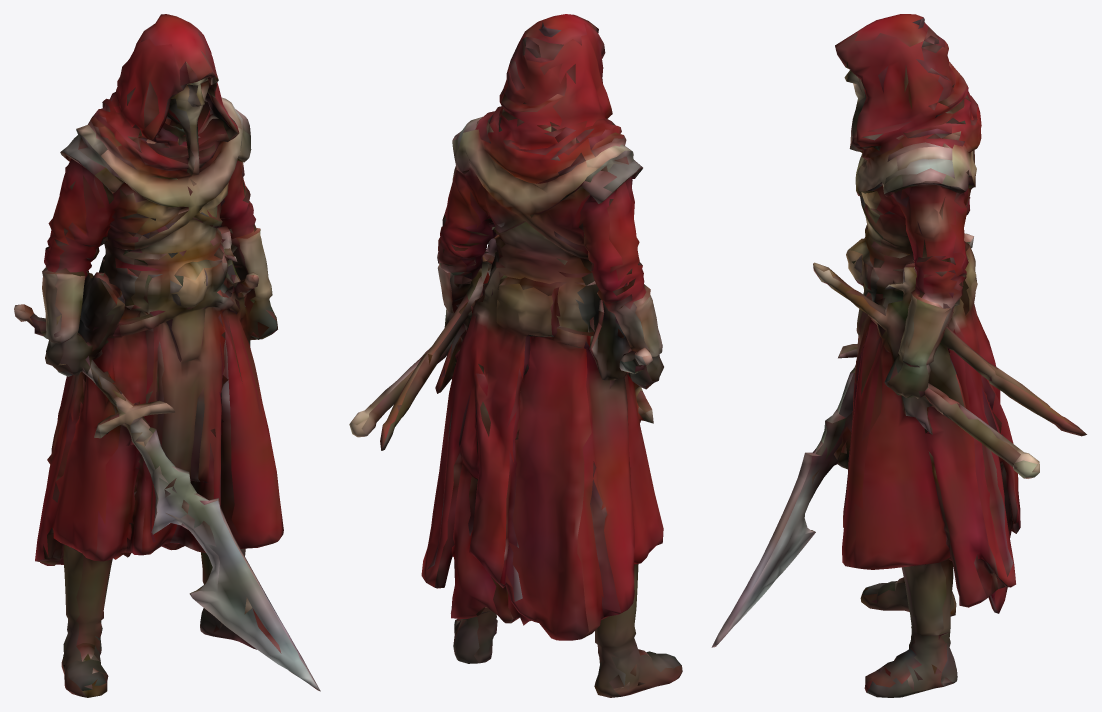
The model's file is Forgotten_Pharoah_Cultist_final.glb.
3 renders of one model, left to right at view 1: azimuth 30°, elevation 25°; view 2: azimuth 150°, elevation 25°; view 3: azimuth 270°, elevation 25°, orthographic.
Visible parts, largest first — view 1: Mesh_0; view 2: Mesh_0; view 3: Mesh_0.
Part boxes in pixels (x1,y1,x2,y2): Mesh_0: [14, 14, 320, 697]; Mesh_0: [349, 14, 682, 697]; Mesh_0: [711, 14, 1086, 697].
Size of the model in its own units: 0.7898 by 1.8 by 0.9697.
Materials: 1 (1 with a texture image).
